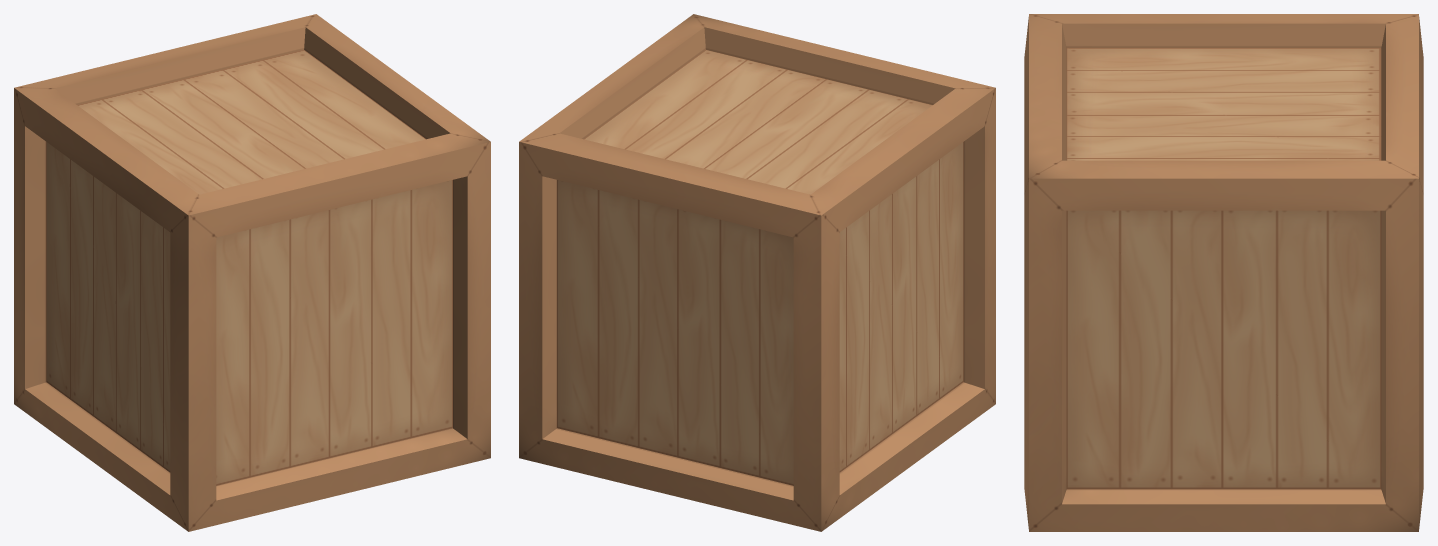
File: Crate.fbx
3 views of the same model, side by side, from view 1: azimuth 30°, elevation 25°; view 2: azimuth 150°, elevation 25°; view 3: azimuth 270°, elevation 25° (orthographic). The views are drawn at different scales.
Parts seen in each view (by area): view 1: Cube; view 2: Cube; view 3: Cube.
Part boxes in pixels (x1=…): Cube: x1=14, y1=14, x2=490, y2=531; Cube: x1=519, y1=14, x2=995, y2=531; Cube: x1=1024, y1=14, x2=1423, y2=531.
Size of the model in its own units: 180 by 180 by 180.
